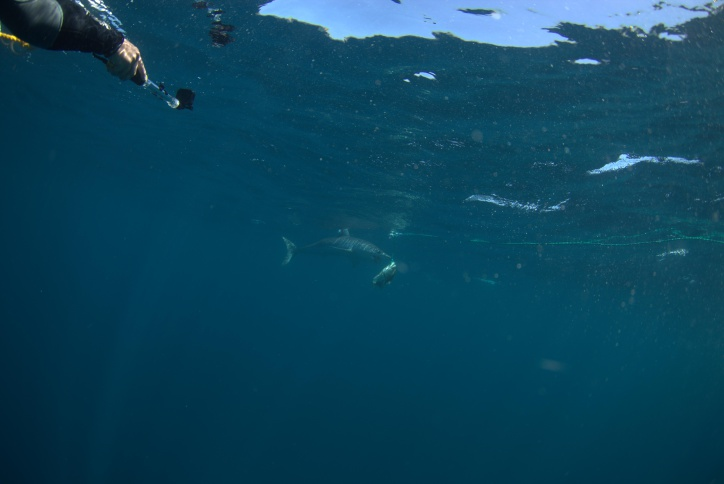Mako: (269, 223, 400, 275)
